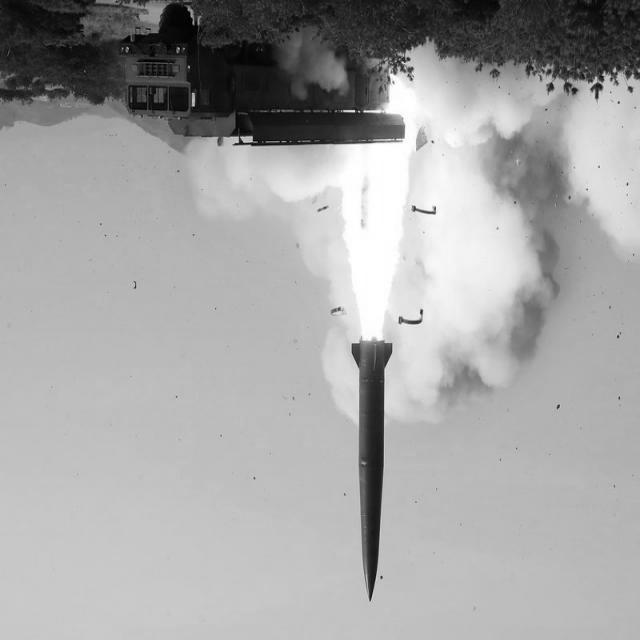missile: (346, 330, 397, 615)
